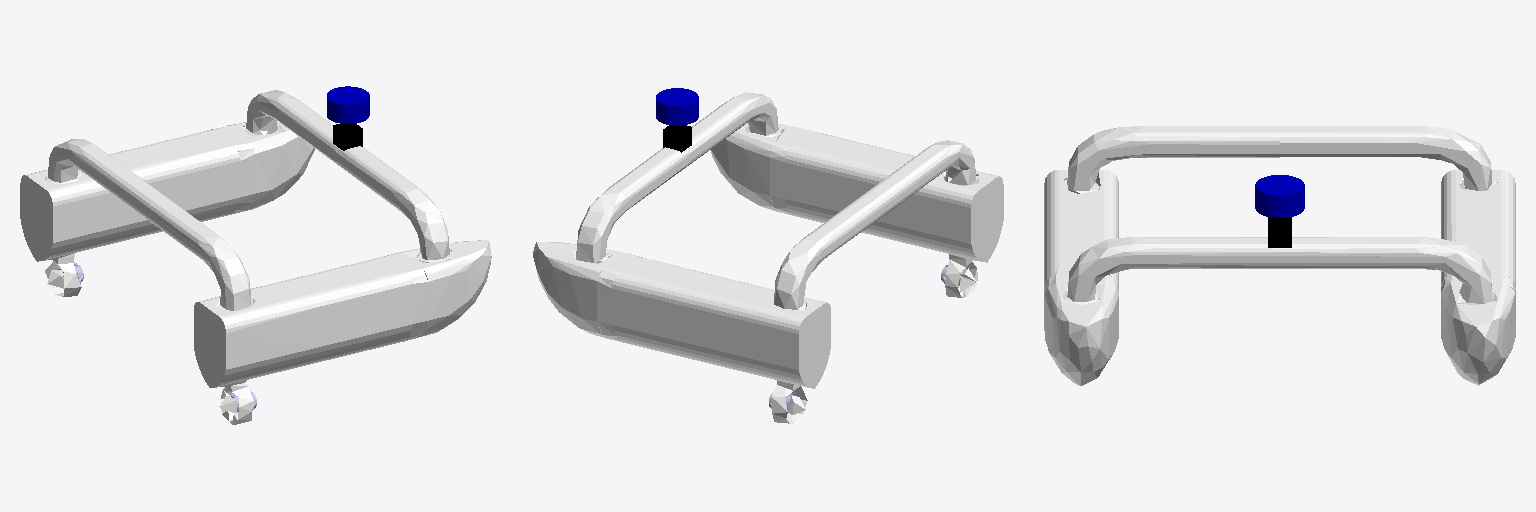
robot.urdf — boatcleaningc:
<?xml version="1.0" encoding="utf-8"?>
<!-- This URDF was automatically created by SolidWorks to URDF Exporter! Originally created by [author] ([email redacted]) 
     Commit Version: 1.6.0-4-g7f85cfe  Build Version: 1.6.7995.38578
     For more information, please see http://wiki.ros.org/sw_urdf_exporter -->
<robot
  name="boatcleaningc">
  <link
    name="baseboatclening">
    <inertial>
      <origin
        xyz="-0.0129680077841765 1.25727561811617E-06 -0.0543415157249071"
        rpy="0 0 0" />
      <mass
        value="13.5985858196954" />
      <inertia
        ixx="0.12499527878428"
        ixy="8.1696015611578E-07"
        ixz="-0.00148374605527537"
        iyy="0.0961950105001574"
        iyz="8.27994826632574E-06"
        izz="0.136442575579436" />
    </inertial>
    <visual>
      <origin
        xyz="0 0 0"
        rpy="0 0 0" />
      <geometry>
        <mesh
          filename="package://boatcleaningc/meshes/baseboatclening.STL" />
      </geometry>
      <material
        name="">
        <color
          rgba="1 1 1 1" />
      </material>
    </visual>
    <collision>
      <origin
        xyz="0 0 0"
        rpy="0 0 0" />
      <geometry>
        <mesh
          filename="package://boatcleaningc/meshes/baseboatclening.STL" />
      </geometry>
    </collision>
  </link>
  <link
    name="axegauche">
    <inertial>
      <origin
        xyz="1.27679435346639E-06 -4.87775281632352E-06 0.0164902272597591"
        rpy="0 0 0" />
      <mass
        value="0.0667653906372772" />
      <inertia
        ixx="2.27687846986066E-05"
        ixy="-1.64564197087163E-09"
        ixz="-1.94145680803022E-09"
        iyy="2.27919636489373E-05"
        iyz="7.33602396572131E-09"
        izz="1.69008013245686E-05" />
    </inertial>
    <visual>
      <origin
        xyz="0 0 0"
        rpy="0 0 0" />
      <geometry>
        <mesh
          filename="package://boatcleaningc/meshes/axegauche.STL" />
      </geometry>
      <material
        name="">
        <color
          rgba="0.792156862745098 0.819607843137255 0.933333333333333 1" />
      </material>
    </visual>
    <collision>
      <origin
        xyz="0 0 0"
        rpy="0 0 0" />
      <geometry>
        <mesh
          filename="package://boatcleaningc/meshes/axegauche.STL" />
      </geometry>
    </collision>
  </link>
  <joint
    name="axegauchejoint"
    type="fixed">
    <origin
      xyz="-0.263293964432029 0.398727536440511 -0.255999999999994"
      rpy="-1.5707963267949 -0.0017453292519949 -1.5707963267949" />
    <parent
      link="baseboatclening" />
    <child
      link="axegauche" />
    <axis
      xyz="0 0 0" />
  </joint>
  <link
    name="fangauche">
    <inertial>
      <origin
        xyz="0.0121880649596051 -1.96166660693109E-09 4.45801809634272E-08"
        rpy="0 0 0" />
      <mass
        value="0.00795785659641826" />
      <inertia
        ixx="3.72710558894489E-06"
        ixy="2.12970220347823E-13"
        ixz="-8.34019260089533E-13"
        iyy="2.39331655167268E-06"
        iyz="-4.61638273535348E-10"
        izz="2.39447831194732E-06" />
    </inertial>
    <visual>
      <origin
        xyz="0 0 0"
        rpy="0 0 0" />
      <geometry>
        <mesh
          filename="package://boatcleaningc/meshes/fangauche.STL" />
      </geometry>
      <material
        name="">
        <color
          rgba="0.792156862745098 0.819607843137255 0.933333333333333 1" />
      </material>
    </visual>
    <collision>
      <origin
        xyz="0 0 0"
        rpy="0 0 0" />
      <geometry>
        <mesh
          filename="package://boatcleaningc/meshes/fangauche.STL" />
      </geometry>
    </collision>
  </link>
  <joint
    name="fangauchejoint"
    type="continuous">
    <origin
      xyz="0 0 -0.0065208"
      rpy="1.5691 -1.5708 0" />
    <parent
      link="axegauche" />
    <child
      link="fangauche" />
    <axis
      xyz="1 0 0" />
  </joint>
  <link
    name="axedroit">
    <inertial>
      <origin
        xyz="1.27706300609431E-06 -4.87768385248888E-06 0.0164902268079528"
        rpy="0 0 0" />
      <mass
        value="0.0667653874530656" />
      <inertia
        ixx="2.2768784169048E-05"
        ixy="-1.64569925595665E-09"
        ixz="-1.94169064678752E-09"
        iyy="2.27919627987871E-05"
        iyz="7.33603381553706E-09"
        izz="1.69008005306967E-05" />
    </inertial>
    <visual>
      <origin
        xyz="0 0 0"
        rpy="0 0 0" />
      <geometry>
        <mesh
          filename="package://boatcleaningc/meshes/axedroit.STL" />
      </geometry>
      <material
        name="">
        <color
          rgba="0.792156862745098 0.819607843137255 0.933333333333333 1" />
      </material>
    </visual>
    <collision>
      <origin
        xyz="0 0 0"
        rpy="0 0 0" />
      <geometry>
        <mesh
          filename="package://boatcleaningc/meshes/axedroit.STL" />
      </geometry>
    </collision>
  </link>
  <joint
    name="axedroitjoint"
    type="fixed">
    <origin
      xyz="-0.263293964432035 -0.401272463559541 -0.255999999999994"
      rpy="-1.5707963267949 -0.00174532925200045 -1.5707963267949" />
    <parent
      link="baseboatclening" />
    <child
      link="axedroit" />
    <axis
      xyz="0 0 0" />
  </joint>
  <link
    name="fandroit">
    <inertial>
      <origin
        xyz="0.0111720649596025 -1.96166084764915E-09 4.45801802140267E-08"
        rpy="0 0 0" />
      <mass
        value="0.0079578565964185" />
      <inertia
        ixx="3.72710558894501E-06"
        ixy="2.12970222312377E-13"
        ixz="-8.34019270254807E-13"
        iyy="2.39331655167276E-06"
        iyz="-4.61638273470614E-10"
        izz="2.39447831194736E-06" />
    </inertial>
    <visual>
      <origin
        xyz="0 0 0"
        rpy="0 0 0" />
      <geometry>
        <mesh
          filename="package://boatcleaningc/meshes/fandroit.STL" />
      </geometry>
      <material
        name="">
        <color
          rgba="0.792156862745098 0.819607843137255 0.933333333333333 1" />
      </material>
    </visual>
    <collision>
      <origin
        xyz="0 0 0"
        rpy="0 0 0" />
      <geometry>
        <mesh
          filename="package://boatcleaningc/meshes/fandroit.STL" />
      </geometry>
    </collision>
  </link>
  <joint
    name="fandroitjoint"
    type="continuous">
    <origin
      xyz="0 0 -0.0055047"
      rpy="1.5691 -1.5708 0" />
    <parent
      link="axedroit" />
    <child
      link="fandroit" />
    <axis
      xyz="1 0 0" />
  </joint>
  <link name="camera">
<inertial>
<origin xyz="0 0 0" rpy="0 0 0" />
<mass value="0.1" />
<inertia ixx="0.0001" ixy="0" ixz="0" iyy="0.0001" iyz="0" izz="0.0001" />
</inertial>
<visual>
<origin xyz="0 0 0" rpy="0 0 0" />
<geometry>
<box size="0.05 0.05 0.05" />
</geometry>
<material name="camera_material">
<color rgba="0 0 0 1" /> <!-- Black color for the camera -->
</material>
</visual>
<collision>
<origin xyz="0 0 0" rpy="0 0 0" />
<geometry>
<box size="0.05 0.05 0.05" />
</geometry>
</collision>
</link>
<!-- Add the joint to connect the camera to the base of the boat -->
<joint name="camera_joint" type="fixed">
<origin xyz="0.265 0 0.14" rpy="0 0 0"/>
<parent link="baseboatclening" />
<child link="camera" />
<axis xyz="0 0 0" />
</joint>
<!-- Gazebo plugin for the camera -->
<gazebo reference="camera">
<sensor type="camera" name="camera_sensor">
<update_rate>30</update_rate> <!-- Camera frame rate -->
<camera name="camera">
<horizontal_fov>2.0944</horizontal_fov> <!-- 120 degrees in radians -->
<image>
<width>640</width>
<height>480</height>
<format>R8G8B8</format>
</image>
<clip>
<near>0.1</near>
<far>100</far>
</clip>
</camera>
<plugin name="camera_controller" filename="libgazebo_ros_camera.so">
<alwaysOn>true</alwaysOn>
<updateRate>30</updateRate>
<cameraName>camera</cameraName>

<frameName>camera</frameName>
<imageTopicName>image_raw</imageTopicName>
<cameraInfoTopicName>camera_info</cameraInfoTopicName>
<hackBaseline>0.07</hackBaseline>
</plugin>
</sensor>
</gazebo>

<!-- LiDAR Sensor -->
<link name="lidar_center">
<inertial>
<mass value="0.1"/>
<origin xyz="0 0 0"/>
<inertia ixx="0.001" ixy="0" ixz="0" iyy="0.001" iyz="0" izz="0.001"/>
</inertial>
<visual>
<geometry>
<cylinder length="0.05" radius="0.05"/>
</geometry>
<material name="lidar_blue">
<color rgba="0 0 0.8 1"/>
</material>
</visual>
<collision>
<geometry>
<cylinder length="0.05" radius="0.05"/>
</geometry>
</collision>
</link>
<!-- Joint to connect the LiDAR to the camera -->
<joint name="lidar_center_joint" type="fixed">
<parent link="camera"/> <!-- Connect to the camera link -->
<child link="lidar_center"/>
<!--
Position relative to the camera:
X = 0 (centered)
Y = 0 (centered)
Z = 10 cm upward
-->
<origin xyz="0 0 0.08" rpy="0 0 0"/>
</joint>
<!-- Gazebo Configuration -->
<gazebo reference="lidar_center">
<sensor type="ray" name="lidar">
<pose>0 0 0 0 0 0</pose>
<visualize>true</visualize>
<update_rate>40</update_rate>
<ray>
<scan>

<horizontal>
<samples>720</samples>
<resolution>1</resolution>
<min_angle>-3.14159</min_angle> <!-- -180° -->
<max_angle>3.14159</max_angle> <!-- +180° -->
</horizontal>
</scan>
<range>
<min>0.1</min>
<max>10.0</max>
<resolution>0.03</resolution>
</range>
<noise>
<type>gaussian</type>
<mean>0.0</mean>
<stddev>0.01</stddev>
</noise>
</ray>
<plugin name="gazebo_ros_laser" filename="libgazebo_ros_laser.so">
<topicName>/scan</topicName>
<frameName>lidar_center</frameName>
</plugin>
</sensor>
</gazebo>

<plugin name="diff_drive_controller" filename="libgazebo_ros_diff_drive.so">
  <ros>
    <namespace>/</namespace>
    <remapping>cmd_vel:=cmd_vel</remapping>
  </ros>

  <updateRate>50.0</updateRate>
  <leftJoint>fangauchejoint</leftJoint>
  <rightJoint>fandroitjoint</rightJoint>

  <wheelSeparation>0.8</wheelSeparation> <!-- Adjust based on real distance between wheels -->
  <wheelDiameter>0.1</wheelDiameter>     <!-- Adjust based on actual wheel size -->

  <robotBaseFrame>baseboatclening</robotBaseFrame>
  <odomFrame>odom</odomFrame>
  <publishWheelTF>true</publishWheelTF>
  <publishTf>true</publishTf>
  <publishWheelJointState>true</publishWheelJointState>

  <topicName>odom</topicName>
  <cmdVelTopic>cmd_vel</cmdVelTopic>
</plugin>

</robot>

--- Render facts (derived) ---
Views: 3 orthographic renders of the robot side by side, from view 1: azimuth 30°, elevation 25°; view 2: azimuth 150°, elevation 25°; view 3: azimuth 270°, elevation 25°.
Robot: boatcleaningc — 7 links, 6 joints (2 continuous, 4 fixed); root link baseboatclening; default pose: all joints at 0.
Visible links, largest first — view 1: baseboatclening, lidar_center, camera; view 2: baseboatclening, lidar_center, camera; view 3: baseboatclening, lidar_center, camera.
Boxes of the visible links, <box> form: baseboatclening: <box>20,90,491,424</box>; lidar_center: <box>327,86,369,123</box>; camera: <box>333,124,362,150</box>; baseboatclening: <box>533,92,1003,423</box>; lidar_center: <box>656,88,698,125</box>; camera: <box>663,125,691,152</box>; baseboatclening: <box>1044,126,1515,385</box>; lidar_center: <box>1255,175,1304,217</box>; camera: <box>1268,217,1291,247</box>.
Size in the robot's own frame: 0.7506 by 0.95 by 0.5499 metres.
Meshes: 5 distinct files referenced, 5 mesh visuals loaded (5 binary STL).
